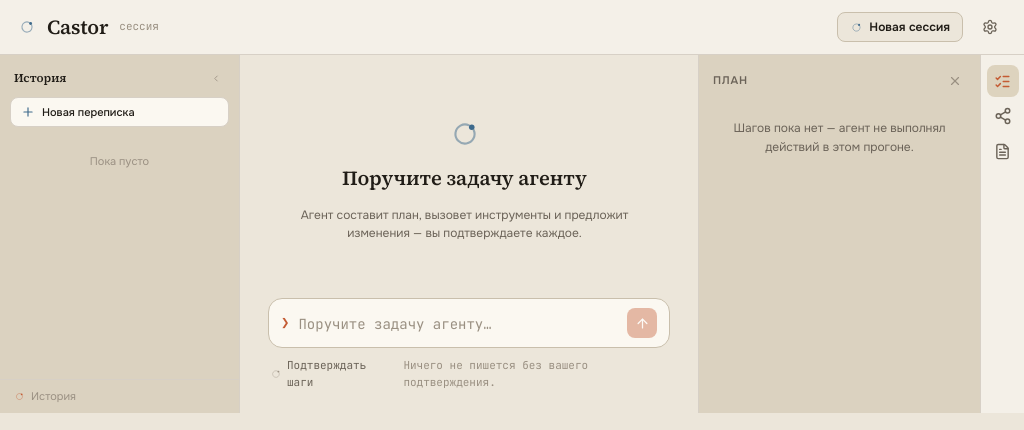
Test: AgentView (UI-1b — фронт вкладки Агента на контракте UI-1a) › B10: селектора моделей нет — ни в меню настроек, ни в футере композера
The image size is (1024, 430).
Click the button named "Настройки агента" at [990, 27], box [974, 11, 1006, 43]
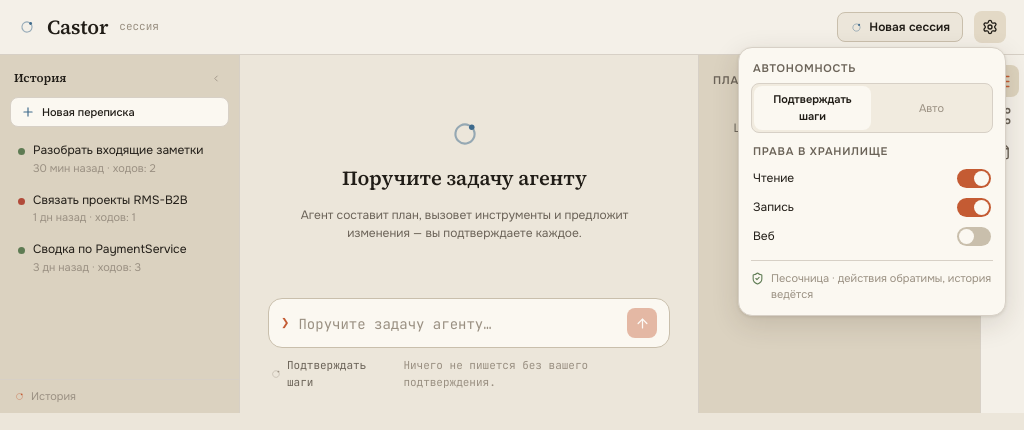
Now the text "Автономность" is shown, box [753, 61, 856, 75]
Now the text "Права в хранилище" is shown, box [753, 144, 888, 158]
